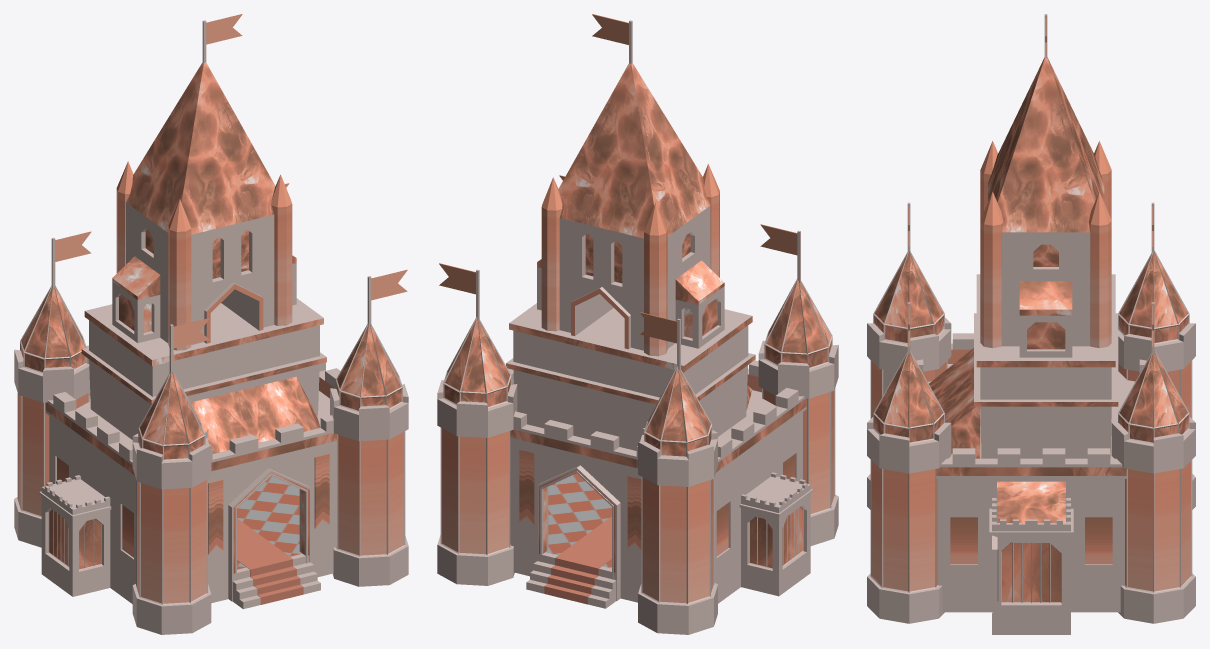
File: salt-crystal-kingdom-castle.glb
3 views of the same model, side by side, from view 1: azimuth 30°, elevation 25°; view 2: azimuth 150°, elevation 25°; view 3: azimuth 270°, elevation 25° (orthographic). The views are drawn at different scales.
Parts seen in each view (by area): view 1: castle, castle.001; view 2: castle, castle.001; view 3: castle, castle.001.
Boxes of the visible parts, left/top/right/bottom form: castle: left=14, top=14, right=408, bottom=634; castle.001: left=45, top=377, right=336, bottom=478; castle: left=437, top=14, right=838, bottom=634; castle.001: left=510, top=374, right=806, bottom=475; castle: left=867, top=14, right=1195, bottom=634; castle.001: left=936, top=349, right=1126, bottom=478.
Size of what is drawn, in the model's own units: 10.59 by 16.64 by 9.15.
3 materials, 2 textured.
